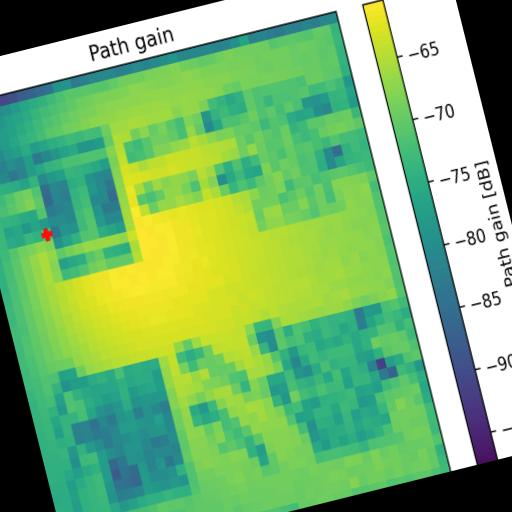Concrete: (224, 72, 338, 231)
Glass: (29, 126, 136, 280)
Metal: (283, 308, 394, 454)
Wood: (78, 357, 192, 512)
